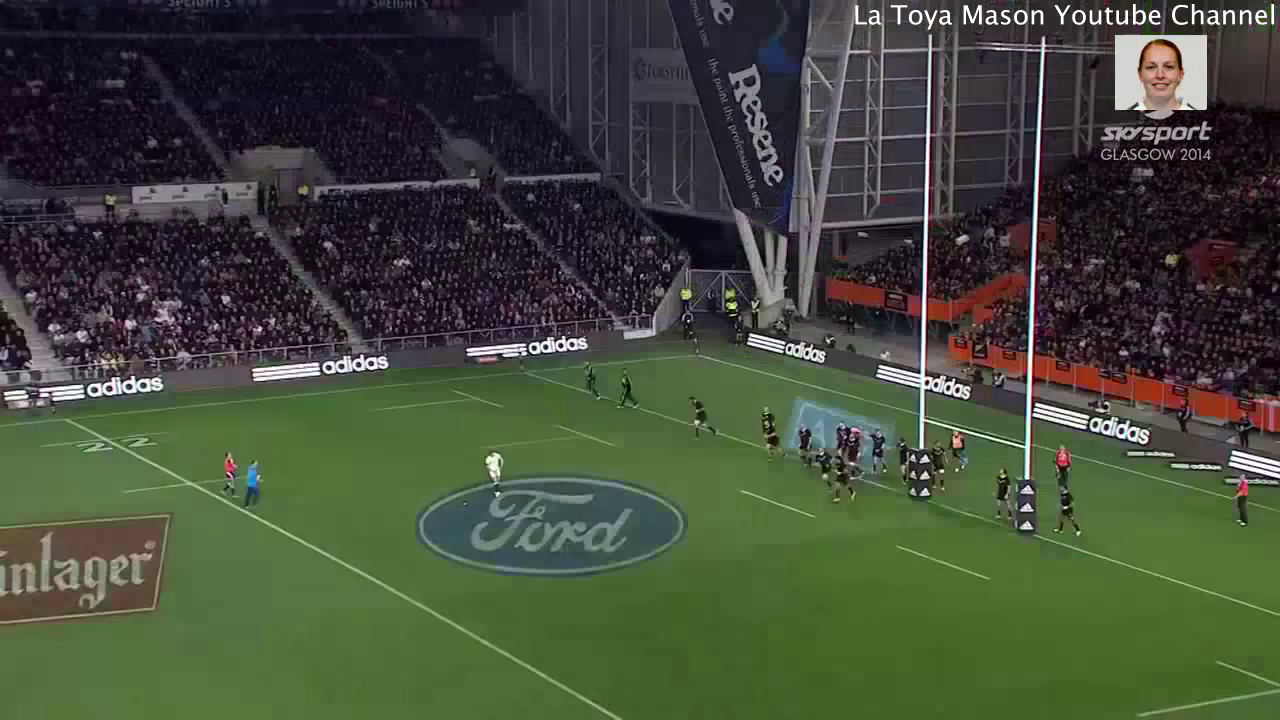player: (480, 446, 511, 507), (1051, 484, 1084, 541), (609, 362, 645, 412), (682, 393, 717, 442), (830, 453, 859, 508), (1227, 472, 1254, 527), (241, 460, 267, 511), (577, 360, 604, 407), (864, 428, 889, 478), (886, 435, 909, 488), (219, 448, 240, 504), (947, 427, 971, 476), (993, 467, 1014, 522), (929, 440, 950, 494), (763, 421, 789, 463), (794, 421, 815, 473), (812, 445, 836, 490), (1051, 445, 1072, 491), (843, 433, 862, 466), (834, 420, 849, 461), (759, 407, 777, 428)
post: (902, 27, 1047, 539)
